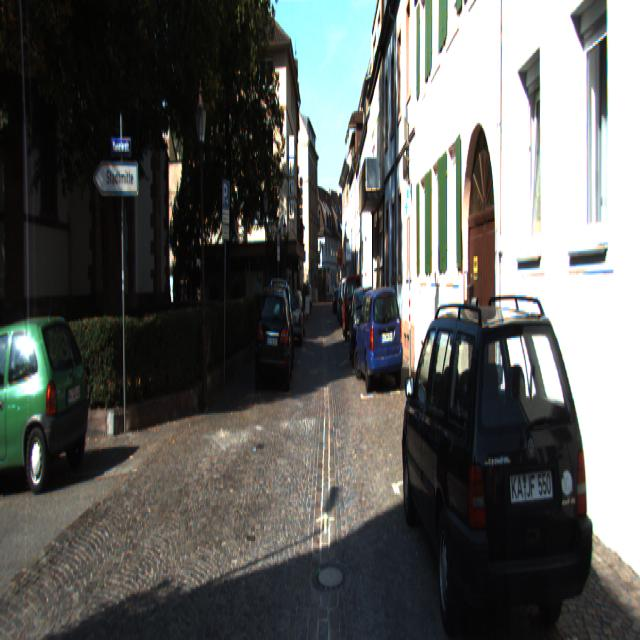Car: (399, 282, 607, 638), (0, 307, 99, 492), (354, 285, 404, 403), (255, 284, 292, 392), (348, 286, 382, 366), (341, 272, 363, 341), (285, 287, 306, 344)
